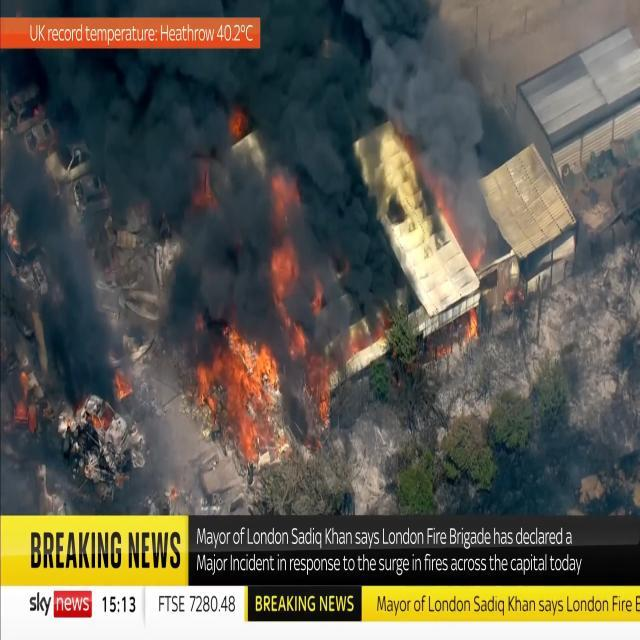Fire: (258, 168, 406, 427), (406, 112, 532, 368), (177, 314, 279, 474), (75, 389, 116, 437), (188, 154, 219, 214), (226, 92, 252, 148), (108, 367, 132, 399)
Smoke: (30, 0, 522, 375), (0, 159, 155, 453)
